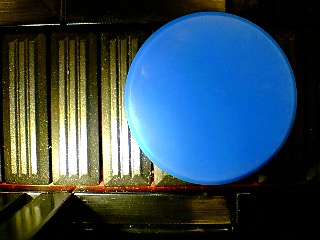BLANK: (125, 10, 298, 185)
